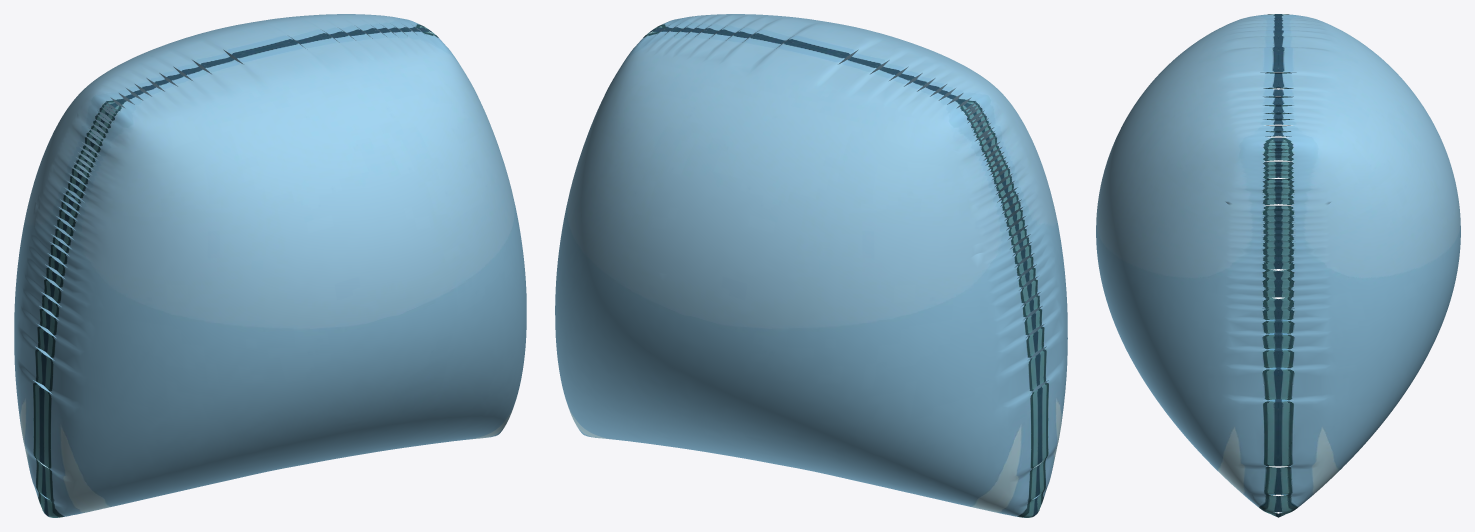
Rendered from plain_bulkhead.glb.
The picture shows the model from 3 angles, left to right: view 1: azimuth 30°, elevation 25°; view 2: azimuth 150°, elevation 25°; view 3: azimuth 270°, elevation 25°; orthographic projection. The views are drawn at different scales.
Visible parts, largest first — view 1: plain_bulkhead; view 2: plain_bulkhead; view 3: plain_bulkhead.
Boxes of the visible parts, x1=… form: plain_bulkhead: x1=14, y1=14, x2=526, y2=517; plain_bulkhead: x1=555, y1=14, x2=1067, y2=517; plain_bulkhead: x1=1096, y1=14, x2=1460, y2=517.
Bounding box in the file's own units: 0.989 × 0.9115 × 0.8225.
1 material, 1 textured.
